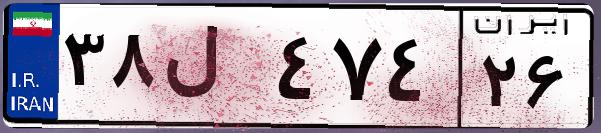2: (475, 38, 525, 113)
3: (57, 26, 110, 100)
4: (270, 28, 330, 110), (385, 28, 445, 110)
6: (525, 38, 570, 115)
7: (330, 28, 385, 110)
8: (110, 28, 158, 98)
ل: (158, 20, 270, 120)
